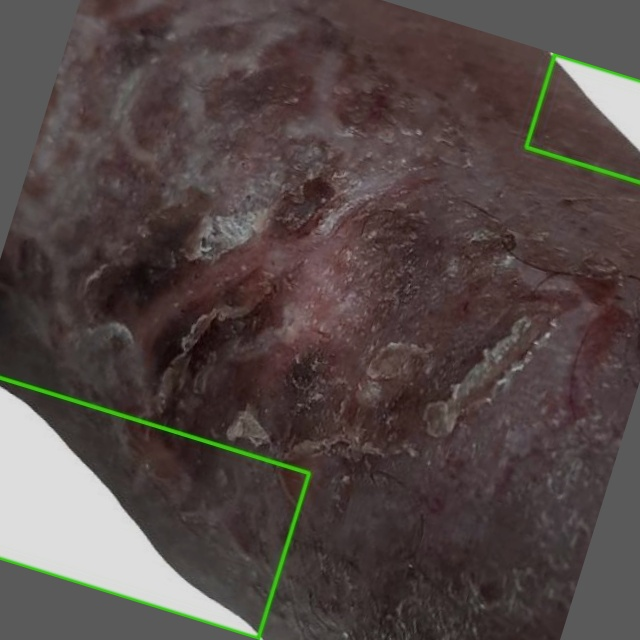Eczema: (0, 377, 309, 638)
